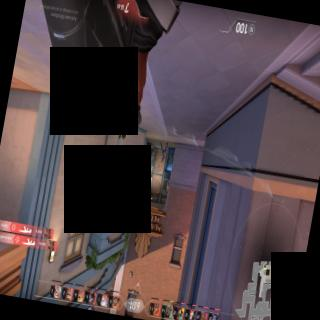ENEMY-BODY: (160, 141, 168, 163)
ENEMY-HEAD: (162, 158, 164, 162)
